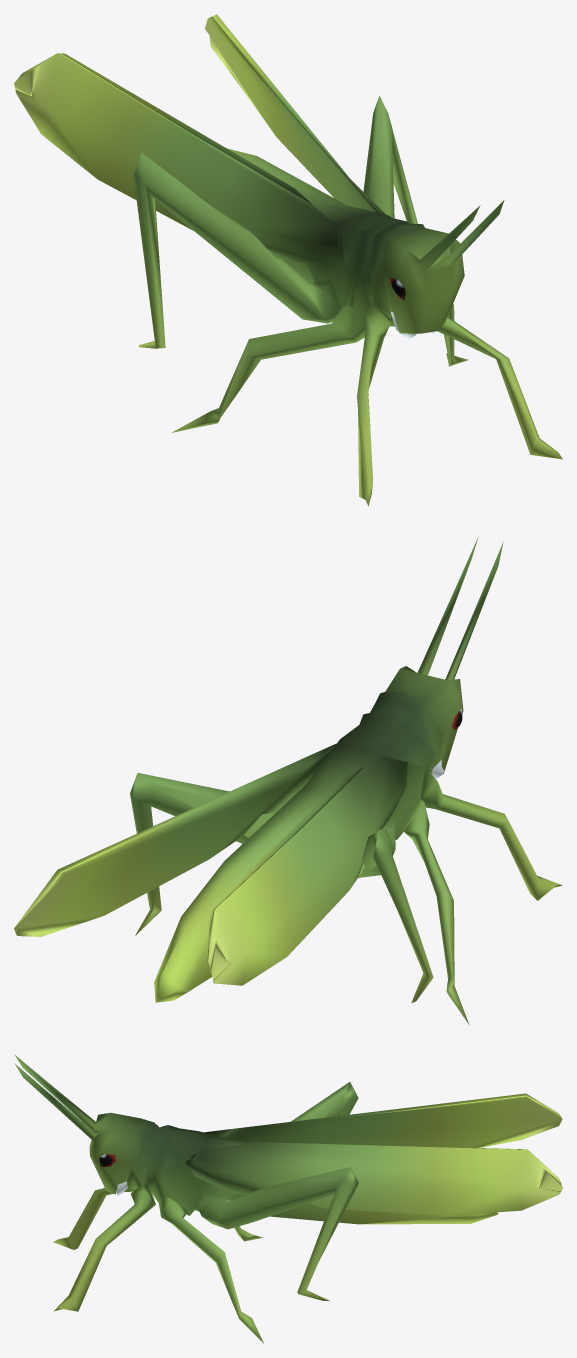
File: ae42d1e1-23ee-4a9d-bd90-cbb550903abb.glb
3 views of the same model, one above another, from view 1: azimuth 30°, elevation 25°; view 2: azimuth 150°, elevation 25°; view 3: azimuth 270°, elevation 25° (orthographic). The views are drawn at different scales.
Visible parts, largest first — view 1: GrassHopper; view 2: GrassHopper; view 3: GrassHopper.
Part boxes in pixels (x1=…): GrassHopper: x1=14, y1=14, x2=562, y2=506; GrassHopper: x1=14, y1=536, x2=562, y2=1024; GrassHopper: x1=14, y1=1054, x2=562, y2=1343.
Bounding box in the file's own units: 0.255 × 0.261 × 0.5579.
2 materials, 2 textured.
